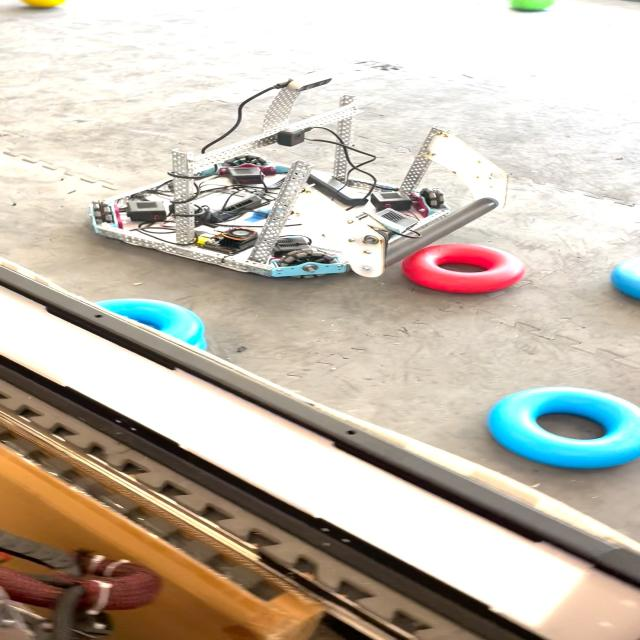Blue-Ring: (489, 388, 640, 469), (96, 299, 207, 350), (611, 257, 640, 305)
Red-Ring: (402, 244, 524, 292)
